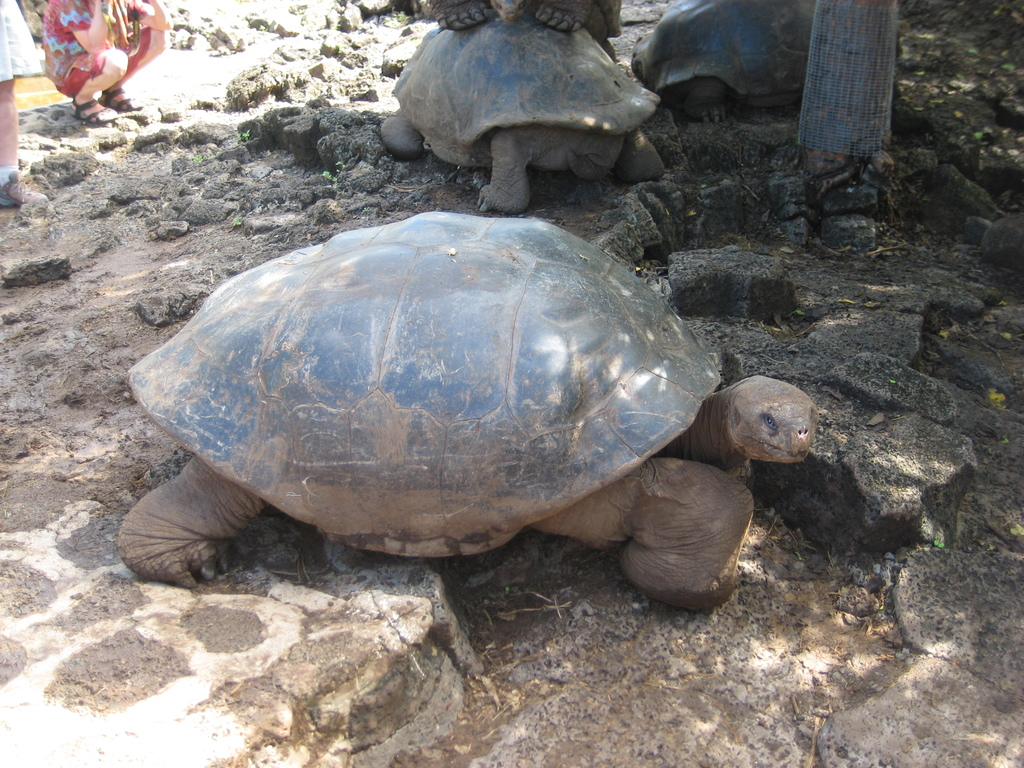Sea turtles: (112, 209, 826, 617), (379, 17, 666, 216), (631, 0, 908, 126), (420, 0, 622, 60)
